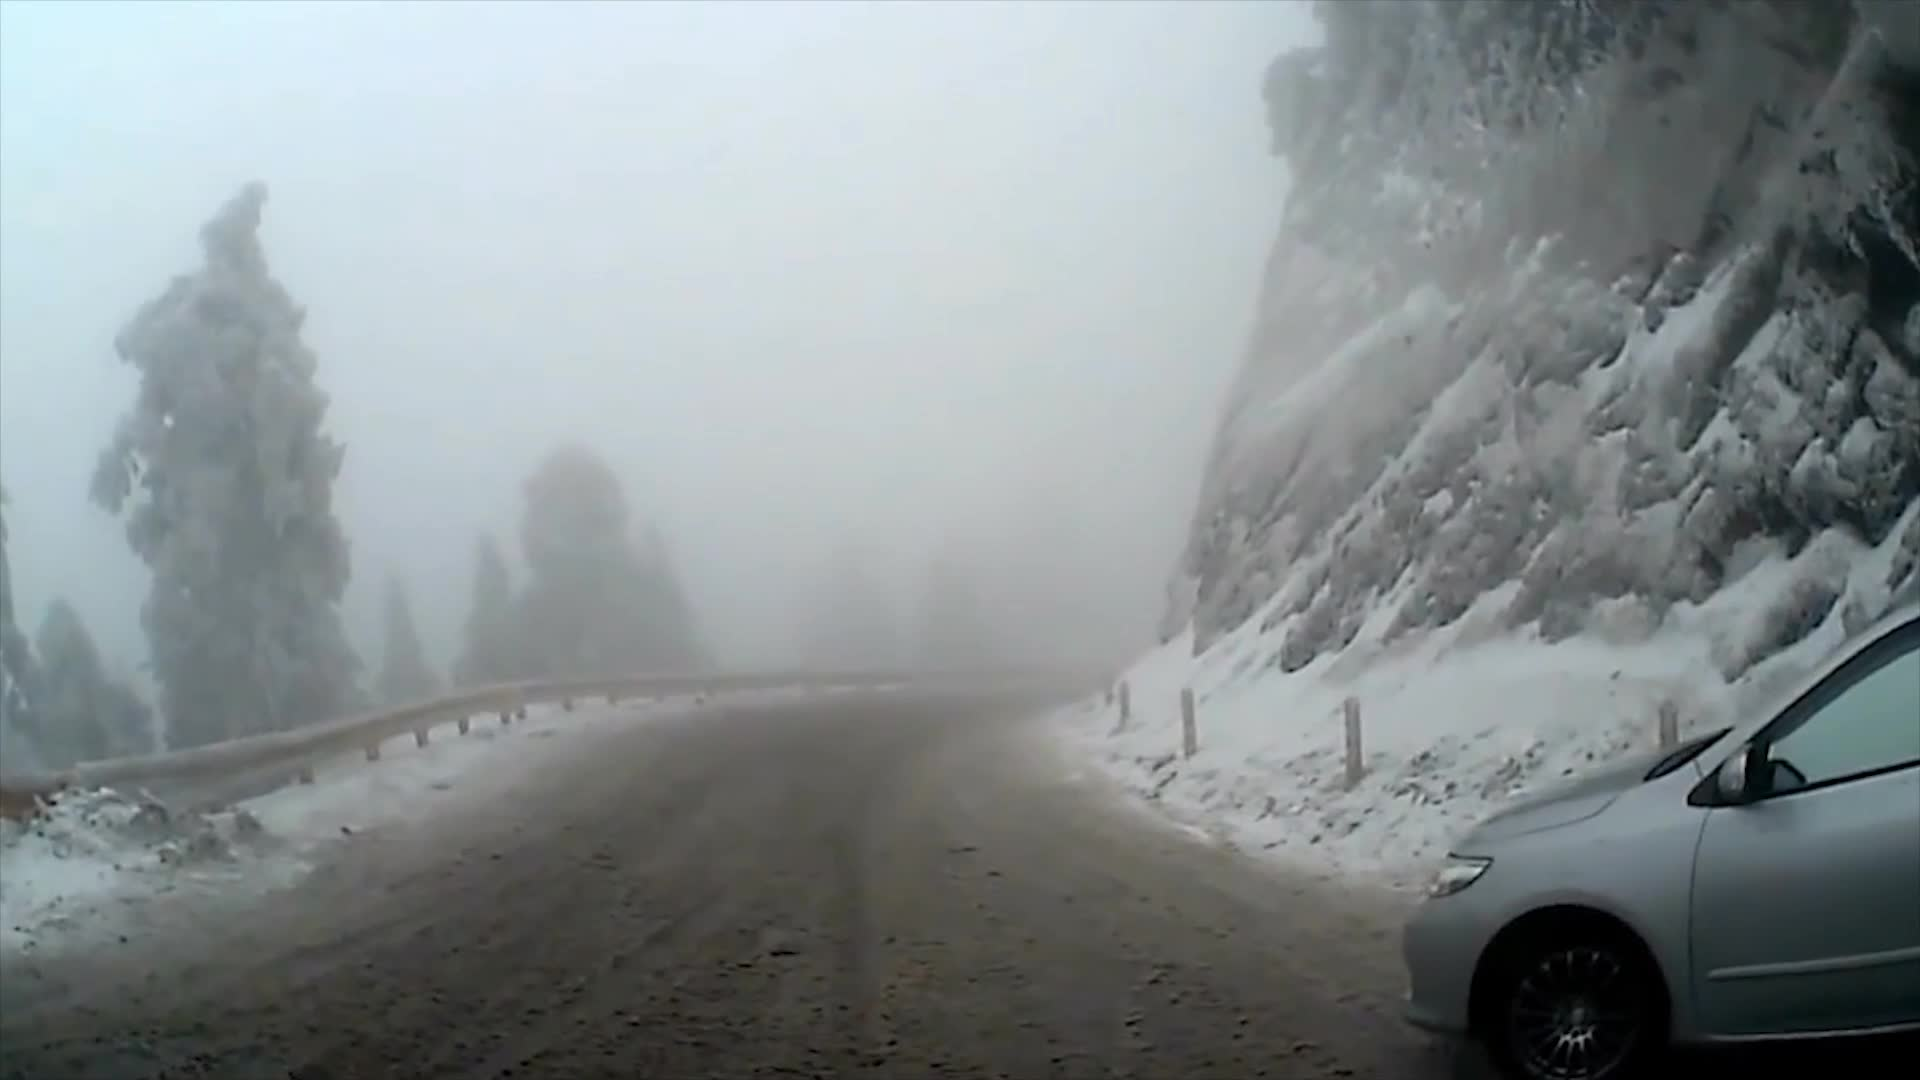vehicle: (1396, 595, 1920, 1080)
